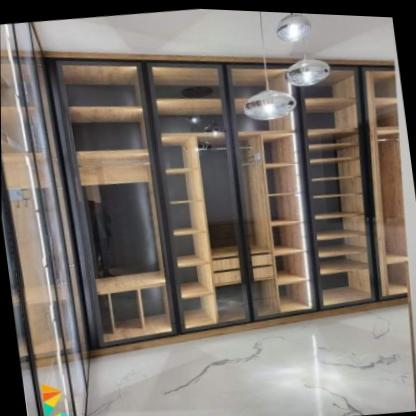Transparent Closet: (42, 52, 407, 349)
